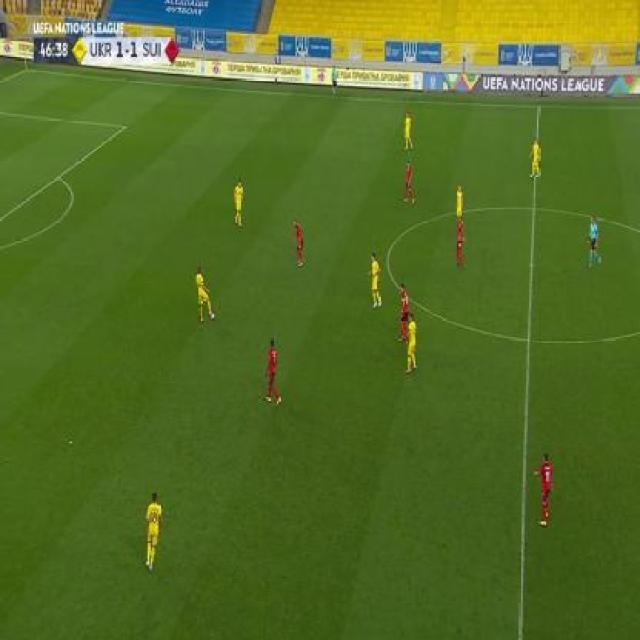player: (534, 451, 556, 528), (144, 490, 164, 572), (263, 338, 282, 406), (193, 266, 215, 323), (403, 313, 419, 376), (585, 214, 602, 268), (396, 282, 410, 344), (368, 252, 384, 306), (401, 158, 417, 206), (291, 217, 305, 268), (454, 215, 467, 268), (232, 179, 245, 228), (528, 137, 542, 180), (401, 111, 414, 150), (454, 184, 465, 226), (330, 63, 338, 97)
